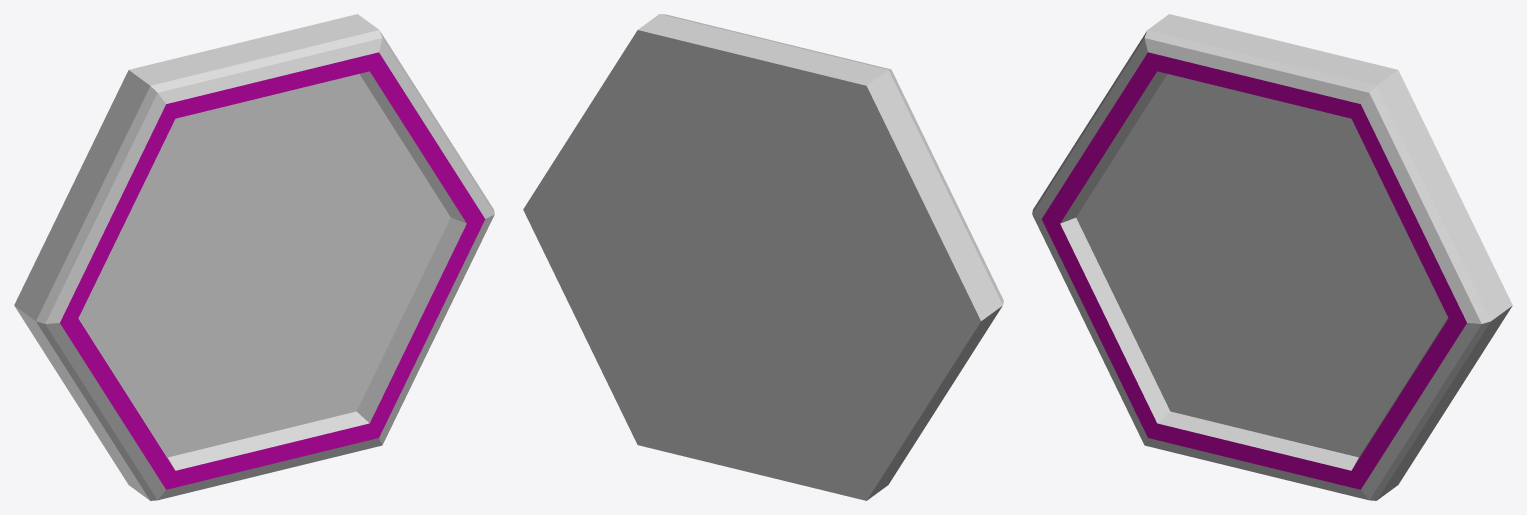
Rendered from hexagon.dae.
The picture shows the model from 3 angles, left to right: view 1: azimuth 30°, elevation 25°; view 2: azimuth 150°, elevation 25°; view 3: azimuth 330°, elevation 25°; orthographic projection.
Visible parts, largest first — view 1: node; view 2: node; view 3: node.
Boxes of the visible parts, x1,y1,x2,y2 form: node: [14, 14, 494, 500]; node: [523, 14, 1003, 500]; node: [1032, 14, 1512, 500].
Size of the model in its own units: 2 by 0.2228 by 1.73.
